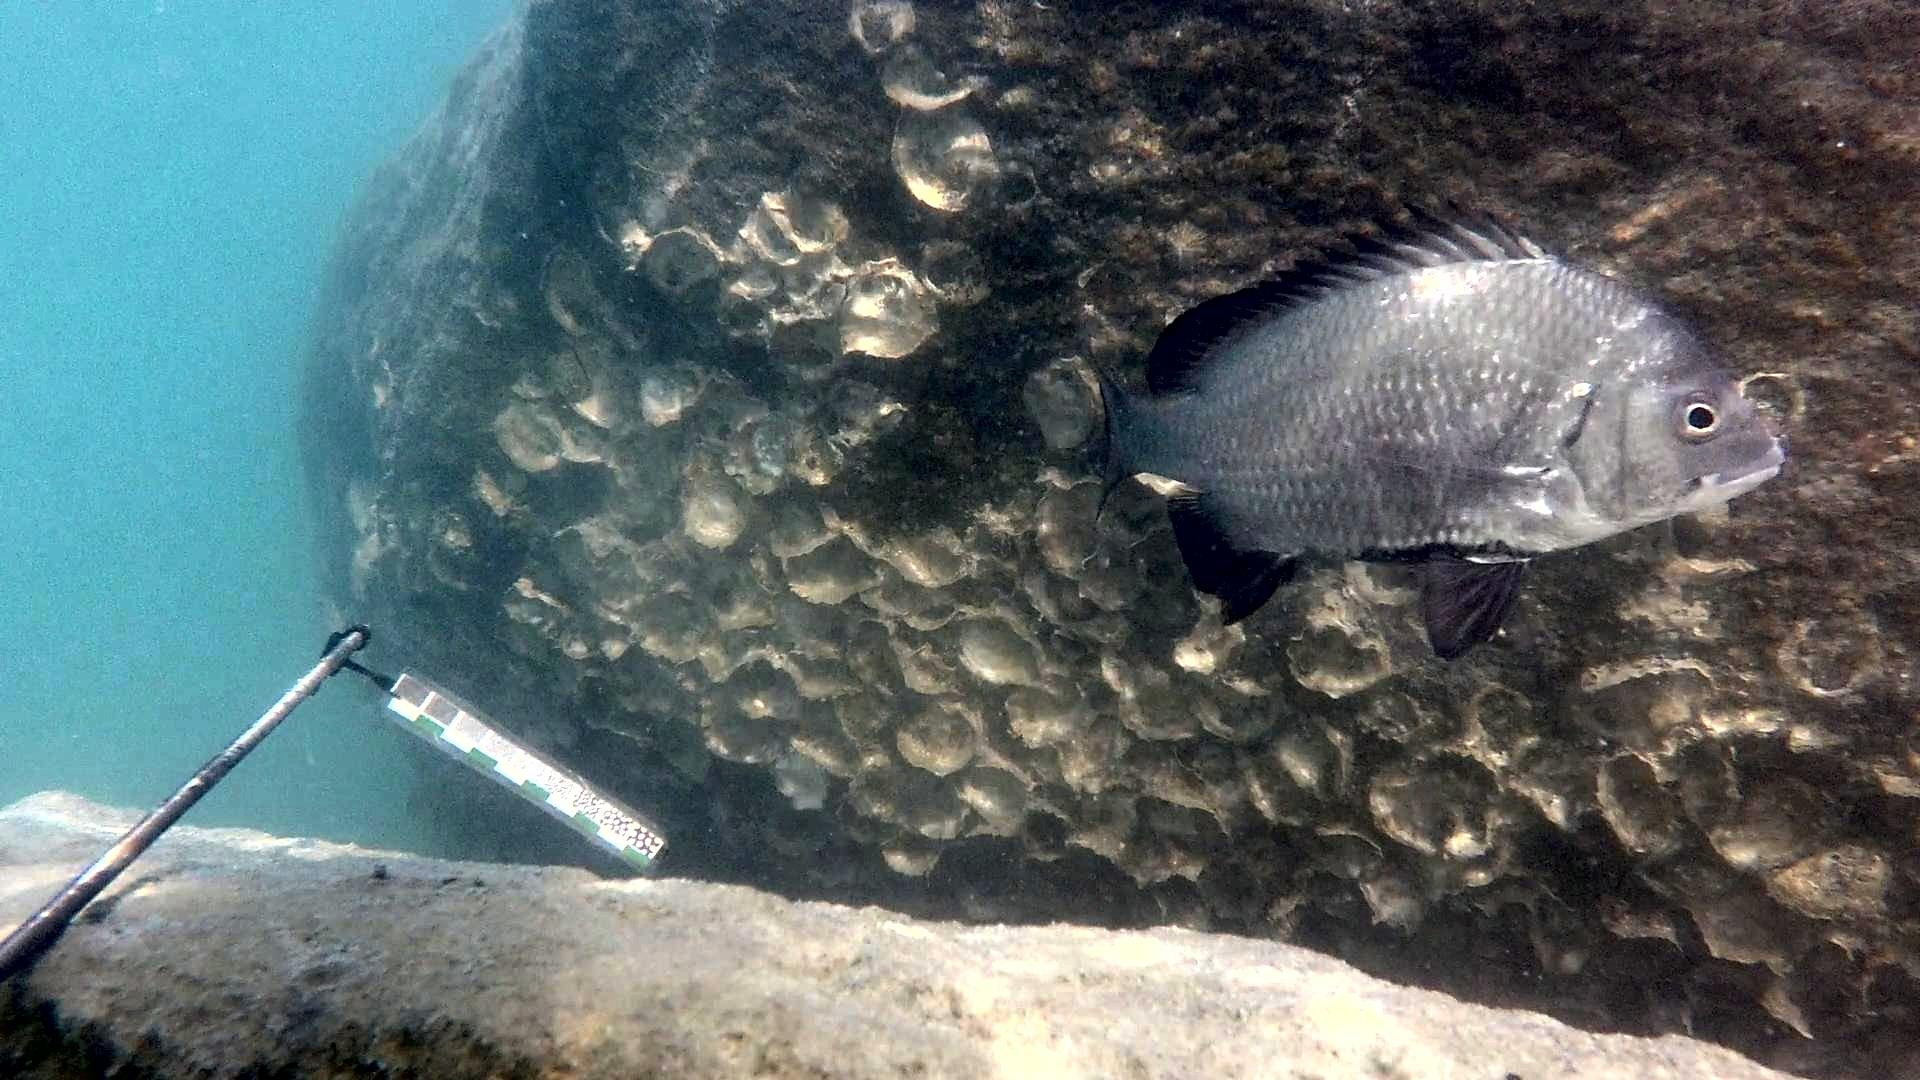acanthopagrus palmaris: (1072, 188, 1796, 679)
